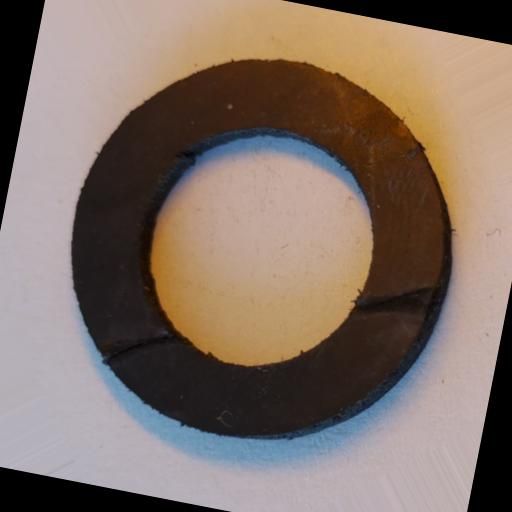defect: (347, 268, 446, 334), (98, 316, 193, 380)
